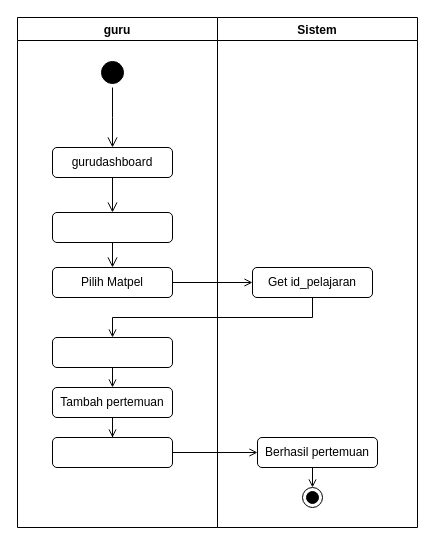
This 435x545 diagram has some shape labels left out. The shapes that lost their labels are listed below. From the top down, each one's box as (x1, y1, x2, y2) in pixels, then its label:
(52, 212, 172, 242): Pilih menu Matpel
(52, 336, 172, 368): List Pertemuan pelajaran
(52, 436, 172, 468): Isi Form, judul, link zoom, dll
